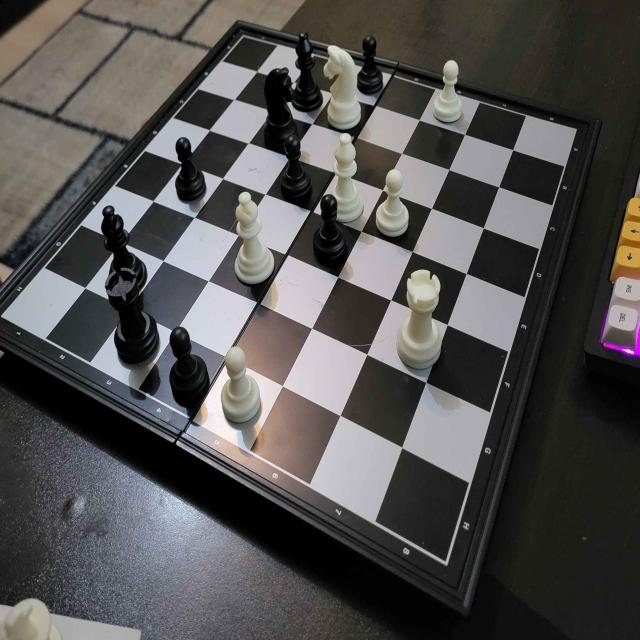black-bishop: (100, 202, 150, 288), (292, 28, 322, 118)
black-knight: (262, 66, 300, 148)
black-pawn: (166, 325, 212, 403), (311, 192, 349, 265), (278, 135, 315, 209), (172, 135, 208, 207), (357, 32, 386, 97)
black-rook: (101, 264, 164, 366)
chess-board: (2, 21, 595, 587)
white-bishop: (230, 188, 277, 292), (332, 130, 366, 225)
white-knight: (322, 43, 363, 134)
white-pawn: (219, 341, 264, 431), (373, 167, 412, 243), (432, 56, 464, 128)
white-rook: (393, 265, 447, 380)
